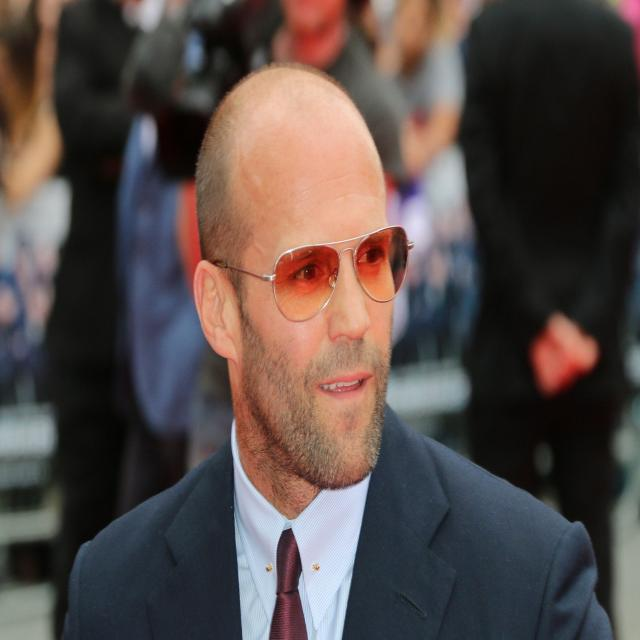bald: (181, 49, 410, 309)
